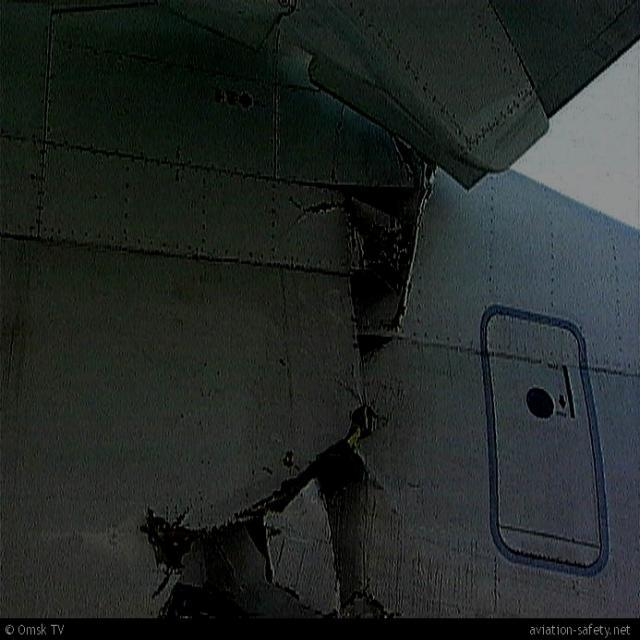crack: (131, 131, 452, 640)
